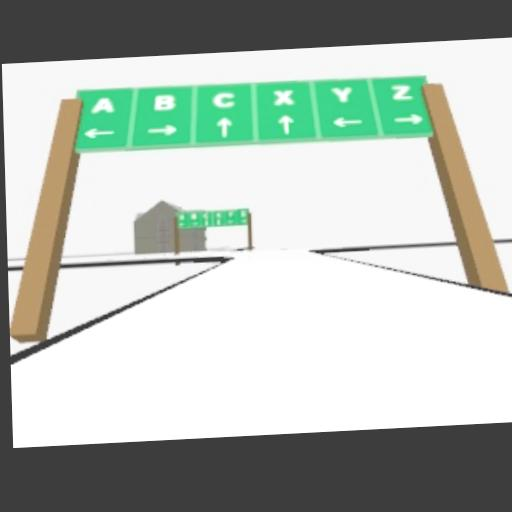A: (91, 96, 116, 116)
B: (153, 94, 176, 112)
C: (214, 91, 235, 109)
Left: (81, 127, 115, 139), (330, 115, 364, 127)
Right: (146, 123, 178, 137), (392, 112, 422, 126)
Straight: (216, 115, 232, 138), (276, 114, 294, 133)
X: (272, 87, 295, 106)
Y: (329, 85, 356, 106)
Z: (390, 83, 413, 101)
